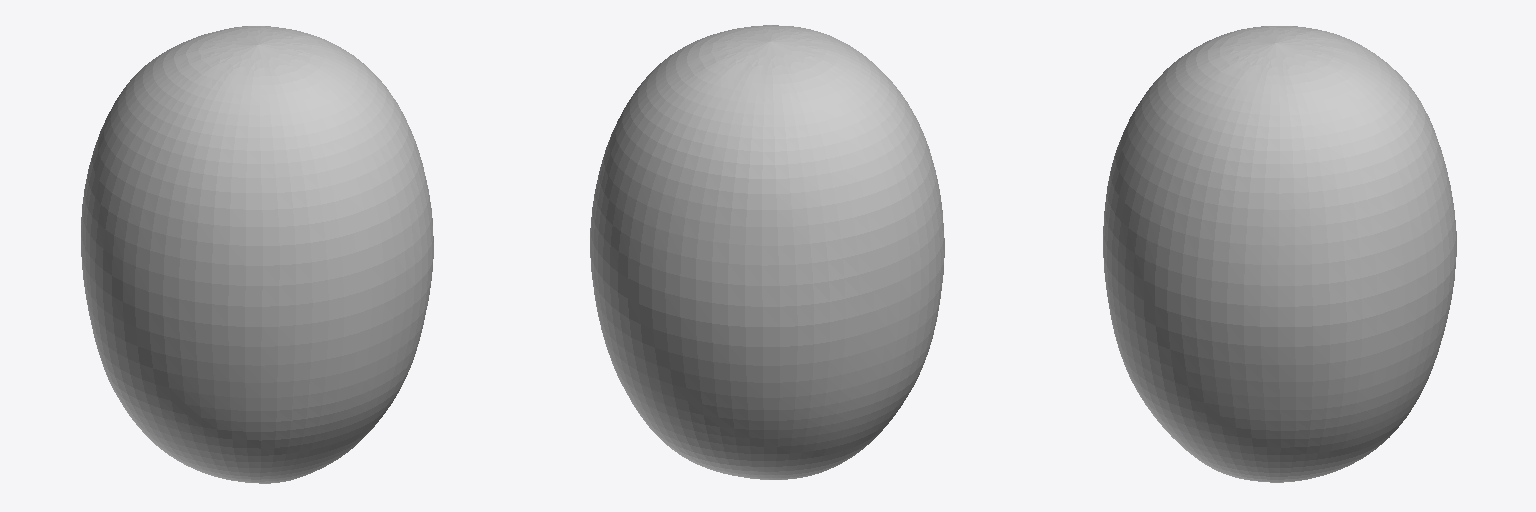
Rendered from fruit.obj.
3 views of the same model, side by side, from view 1: azimuth 30°, elevation 25°; view 2: azimuth 150°, elevation 25°; view 3: azimuth 270°, elevation 25° (orthographic).
Parts seen in each view (by area): view 1: Fruit; view 2: Fruit; view 3: Fruit.
Boxes of the visible parts, x1,y1,x2,y2 form: Fruit: [81, 26, 433, 483]; Fruit: [590, 25, 944, 479]; Fruit: [1103, 26, 1456, 482].
Bounding box in the file's own units: 19.08 × 25.32 × 19.08.